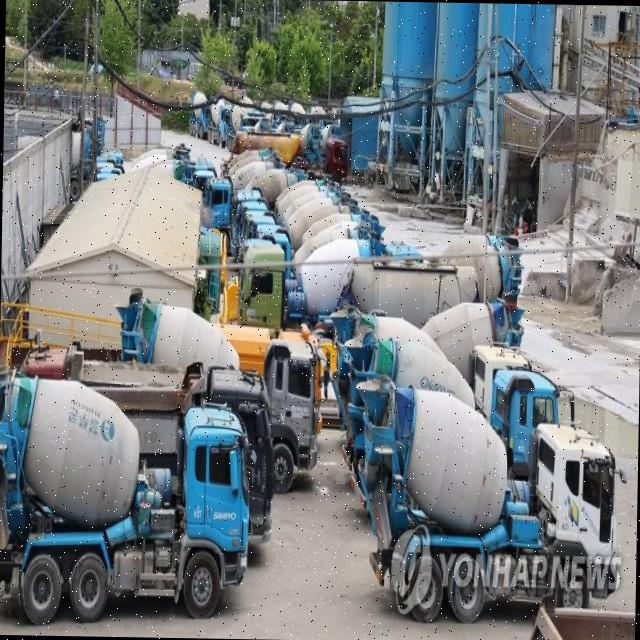Mixer Truck: (350, 374, 620, 628), (0, 364, 252, 627), (111, 286, 321, 495), (342, 329, 561, 522), (325, 304, 535, 474), (235, 236, 388, 340), (416, 298, 525, 387), (250, 223, 386, 294), (204, 168, 308, 255), (230, 188, 350, 252), (230, 180, 336, 250), (238, 202, 364, 260), (230, 197, 356, 254), (428, 232, 524, 304), (190, 158, 287, 226), (254, 212, 378, 252), (186, 150, 276, 191), (290, 119, 325, 178), (206, 98, 236, 146), (187, 90, 214, 140), (318, 123, 342, 156), (307, 102, 330, 122), (290, 98, 308, 120), (237, 94, 256, 114), (259, 94, 273, 114), (272, 98, 290, 112)
